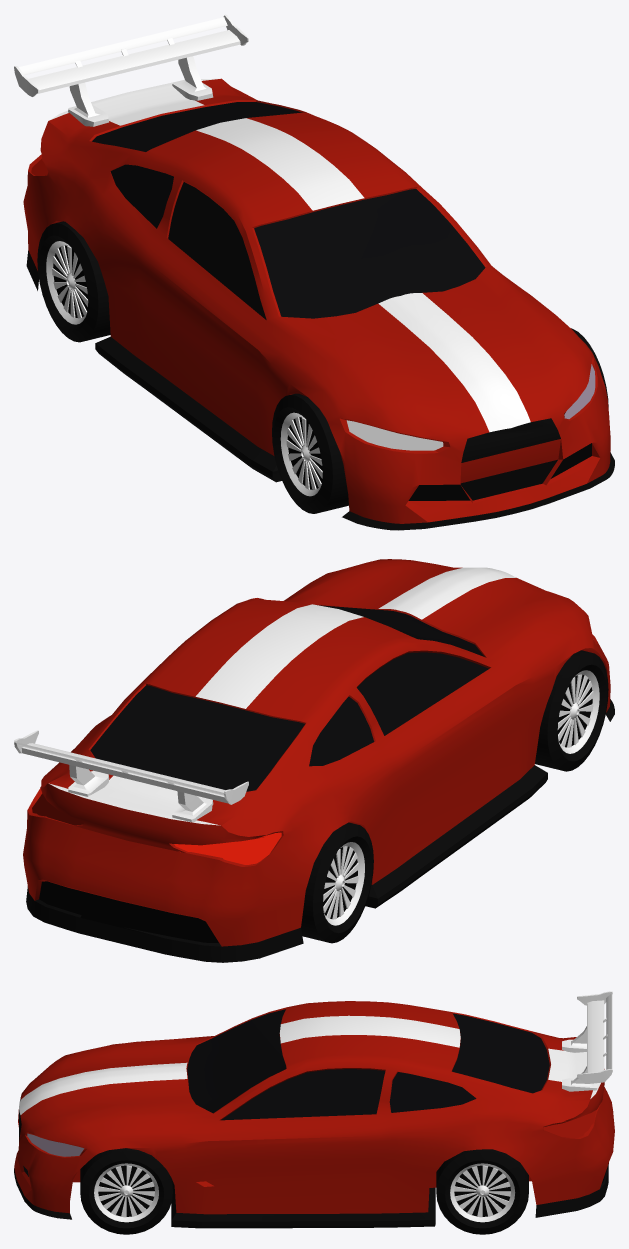
File: m4 ezgi.fbx
3 views of the same model, one above another, from view 1: azimuth 30°, elevation 25°; view 2: azimuth 150°, elevation 25°; view 3: azimuth 270°, elevation 25° (orthographic). The views are drawn at different scales.
Parts seen in each view (by area): view 1: Cube, Cylinder.002, Cylinder.001; view 2: Cube, Cylinder.001, Cylinder.002; view 3: Cube, Cylinder.004, Cylinder.003.
Boxes of the visible parts, x1,y1,x2,y2 form: Cube: (14, 14, 614, 530); Cylinder.002: (272, 393, 348, 513); Cylinder.001: (37, 221, 110, 342); Cube: (14, 559, 614, 962); Cylinder.001: (301, 822, 373, 943); Cylinder.002: (535, 650, 608, 771); Cube: (14, 991, 614, 1228); Cylinder.004: (436, 1149, 528, 1234); Cylinder.003: (80, 1148, 172, 1234).
Bounding box in the file's own units: 409 × 288 × 985.
